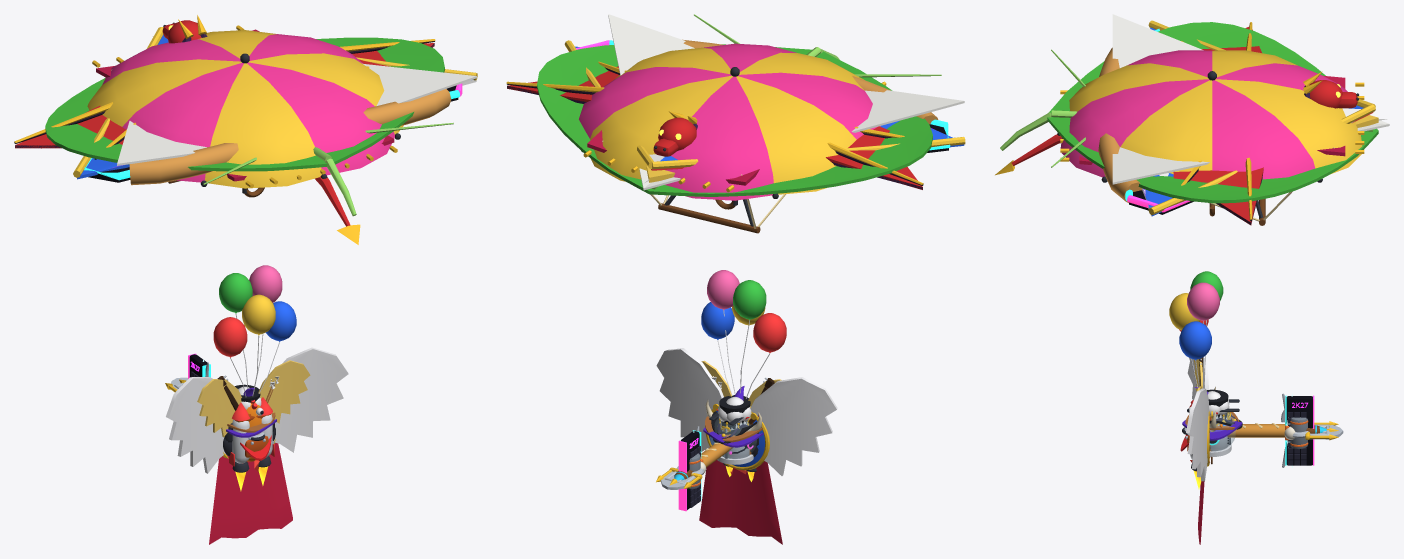
Rendered from cosmetiques.glb.
The picture shows the model from 3 angles, left to right: view 1: azimuth 30°, elevation 25°; view 2: azimuth 150°, elevation 25°; view 3: azimuth 270°, elevation 25°; orthographic projection. The views are drawn at different scales.
Parts seen in each view (by area): view 1: deltaplane_parapluie, dos_ailes, deltaplane_feuille, dos_ballons, dos_cape, deltaplane_papier, deltaplane_pizza, deltaplane_dragon, dos_fusee, deltaplane_classique, deltaplane_tapis, deltaplane_ecran2k27; view 2: deltaplane_parapluie, deltaplane_feuille, dos_ailes, deltaplane_papier, dos_cape, dos_ballons, deltaplane_dragon, deltaplane_tapis, deltaplane_classique, pioche_clavier, chapeau_bocal, deltaplane_pizza (+3 smaller); view 3: deltaplane_parapluie, deltaplane_feuille, deltaplane_papier, deltaplane_dragon, dos_ballons, dos_ailes, deltaplane_pizza, pioche_clavier, deltaplane_classique, deltaplane_tapis, pioche_baguette, chapeau_bocal (+1 smaller).
Boxes of the visible parts, x1,y1,x2,y2 form: deltaplane_parapluie: (87, 30, 403, 197); dos_ailes: (166, 347, 348, 473); deltaplane_feuille: (45, 37, 453, 216); dos_ballons: (213, 265, 296, 397); dos_cape: (209, 443, 292, 544); deltaplane_papier: (117, 63, 476, 165); deltaplane_pizza: (129, 89, 451, 185); deltaplane_dragon: (14, 15, 435, 244); dos_fusee: (229, 397, 274, 491); deltaplane_classique: (73, 27, 477, 179); deltaplane_tapis: (92, 25, 397, 187); deltaplane_ecran2k27: (84, 83, 462, 182); deltaplane_parapluie: (579, 43, 880, 209); deltaplane_feuille: (537, 14, 941, 196); dos_ailes: (656, 348, 837, 475); deltaplane_papier: (608, 14, 964, 190); dos_cape: (699, 404, 782, 544); dos_ballons: (701, 270, 786, 398); deltaplane_dragon: (506, 61, 923, 189); deltaplane_tapis: (583, 81, 886, 233); deltaplane_classique: (564, 40, 965, 169); pioche_clavier: (678, 430, 701, 511); chapeau_bocal: (710, 418, 756, 464); deltaplane_pizza: (646, 39, 938, 182); deltaplane_parapluie: (1057, 50, 1364, 216); deltaplane_feuille: (1000, 22, 1378, 203); deltaplane_papier: (1112, 14, 1389, 184); deltaplane_dragon: (995, 22, 1358, 225); dos_ballons: (1169, 271, 1223, 388); dos_ailes: (1186, 355, 1208, 481); deltaplane_pizza: (1098, 47, 1378, 202); pioche_clavier: (1285, 395, 1314, 465); deltaplane_classique: (1142, 20, 1375, 216); deltaplane_tapis: (1060, 75, 1364, 225); pioche_baguette: (1227, 423, 1285, 437); chapeau_bocal: (1209, 412, 1235, 456).
Bounding box in the file's own units: 4.2 × 4.56 × 3.57.
